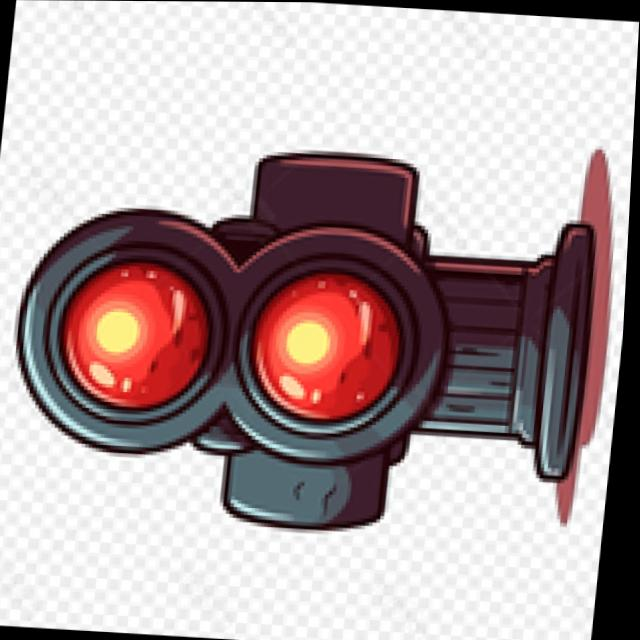red_light: (44, 211, 268, 454)
